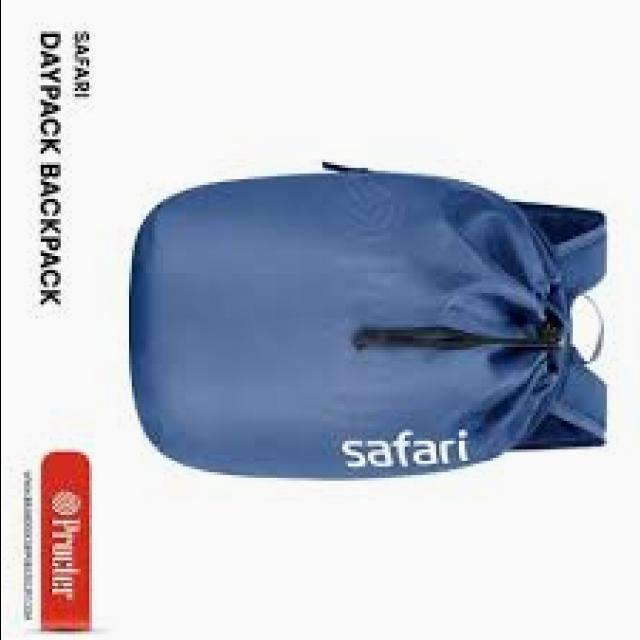backpack: (129, 160, 613, 482)
